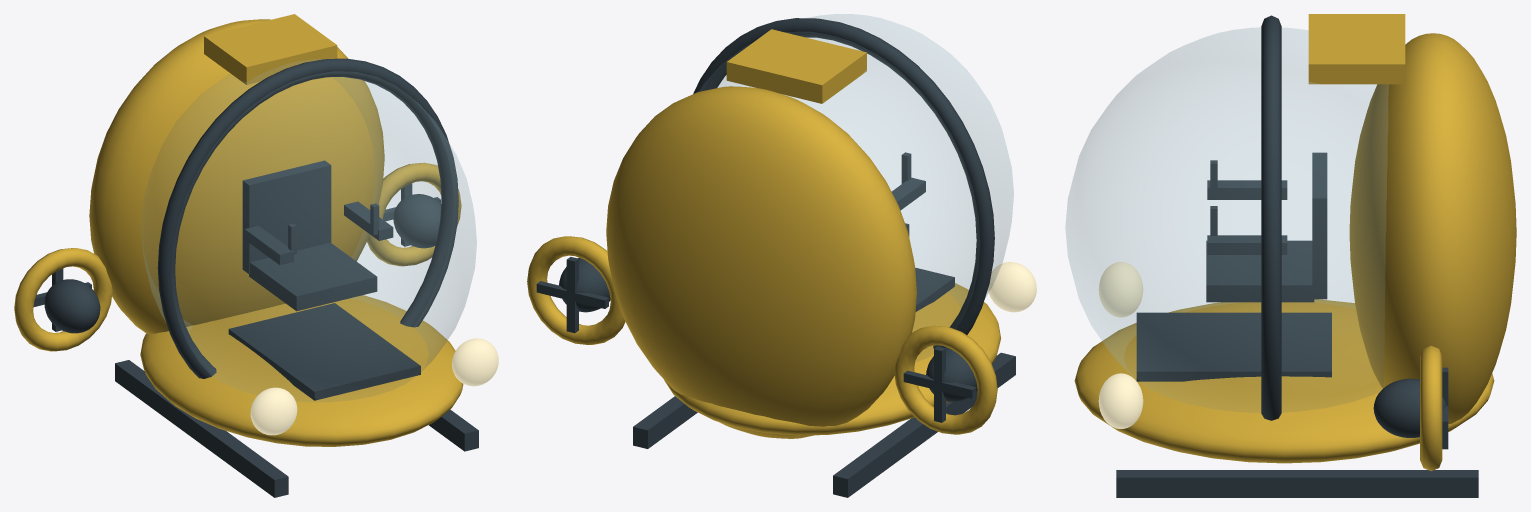
File: observation-sub.glb
3 renders of one model, left to right at view 1: azimuth 30°, elevation 25°; view 2: azimuth 150°, elevation 25°; view 3: azimuth 270°, elevation 25°, orthographic. The views are drawn at different scales.
Parts seen in each view (by area): view 1: pressure.cabin, rear.ballast, lower.ballast, observation-sub, cabin.floor, seat.back, landing.skid (×2), top.hatch, seat.cushion, thruster.motor (×2), headlight (×2), seat.armrest (×2); view 2: rear.ballast, pressure.cabin, observation-sub, lower.ballast, top.hatch, landing.skid (×2), propeller (×4), thruster.motor (×2), headlight, cabin.floor, seat.armrest; view 3: pressure.cabin, rear.ballast, lower.ballast, cabin.floor, observation-sub, landing.skid, top.hatch, seat.cushion, headlight (×2), seat.armrest (×2), seat.back, thruster.motor.
Boxes of the visible parts, x1,y1,x2,y2 form: pressure.cabin: (141, 59, 476, 401); rear.ballast: (89, 19, 384, 333); lower.ballast: (140, 295, 463, 446); observation-sub: (14, 58, 461, 378); cabin.floor: (228, 303, 420, 400); seat.back: (242, 160, 331, 274); landing.skid (×2): (115, 360, 478, 497); top.hatch: (204, 14, 337, 84); seat.cushion: (249, 242, 377, 311); thruster.motor (×2): (44, 194, 440, 333); headlight (×2): (250, 338, 498, 435); seat.armrest (×2): (244, 201, 393, 264); rear.ballast: (606, 86, 916, 438); pressure.cabin: (699, 14, 1013, 361); observation-sub: (527, 18, 997, 434); lower.ballast: (664, 283, 1000, 435); top.hatch: (726, 29, 866, 103); landing.skid (×2): (633, 352, 1015, 497); propeller (×4): (536, 257, 976, 422); thruster.motor (×2): (559, 258, 977, 401); headlight: (988, 262, 1036, 312); cabin.floor: (915, 267, 954, 311); seat.armrest: (891, 177, 925, 210); pressure.cabin: (1065, 27, 1388, 412); rear.ballast: (1349, 33, 1516, 424); lower.ballast: (1074, 299, 1494, 463); cabin.floor: (1136, 312, 1331, 381); observation-sub: (1261, 15, 1442, 471); landing.skid: (1116, 470, 1478, 497); top.hatch: (1308, 14, 1405, 84); seat.cushion: (1206, 240, 1314, 302); headlight (×2): (1098, 262, 1143, 428); seat.armrest (×2): (1207, 180, 1287, 254); seat.back: (1312, 152, 1327, 299); thruster.motor: (1373, 378, 1446, 437).
Bounding box in the file's own units: 3.14 × 2.43 × 2.43.
